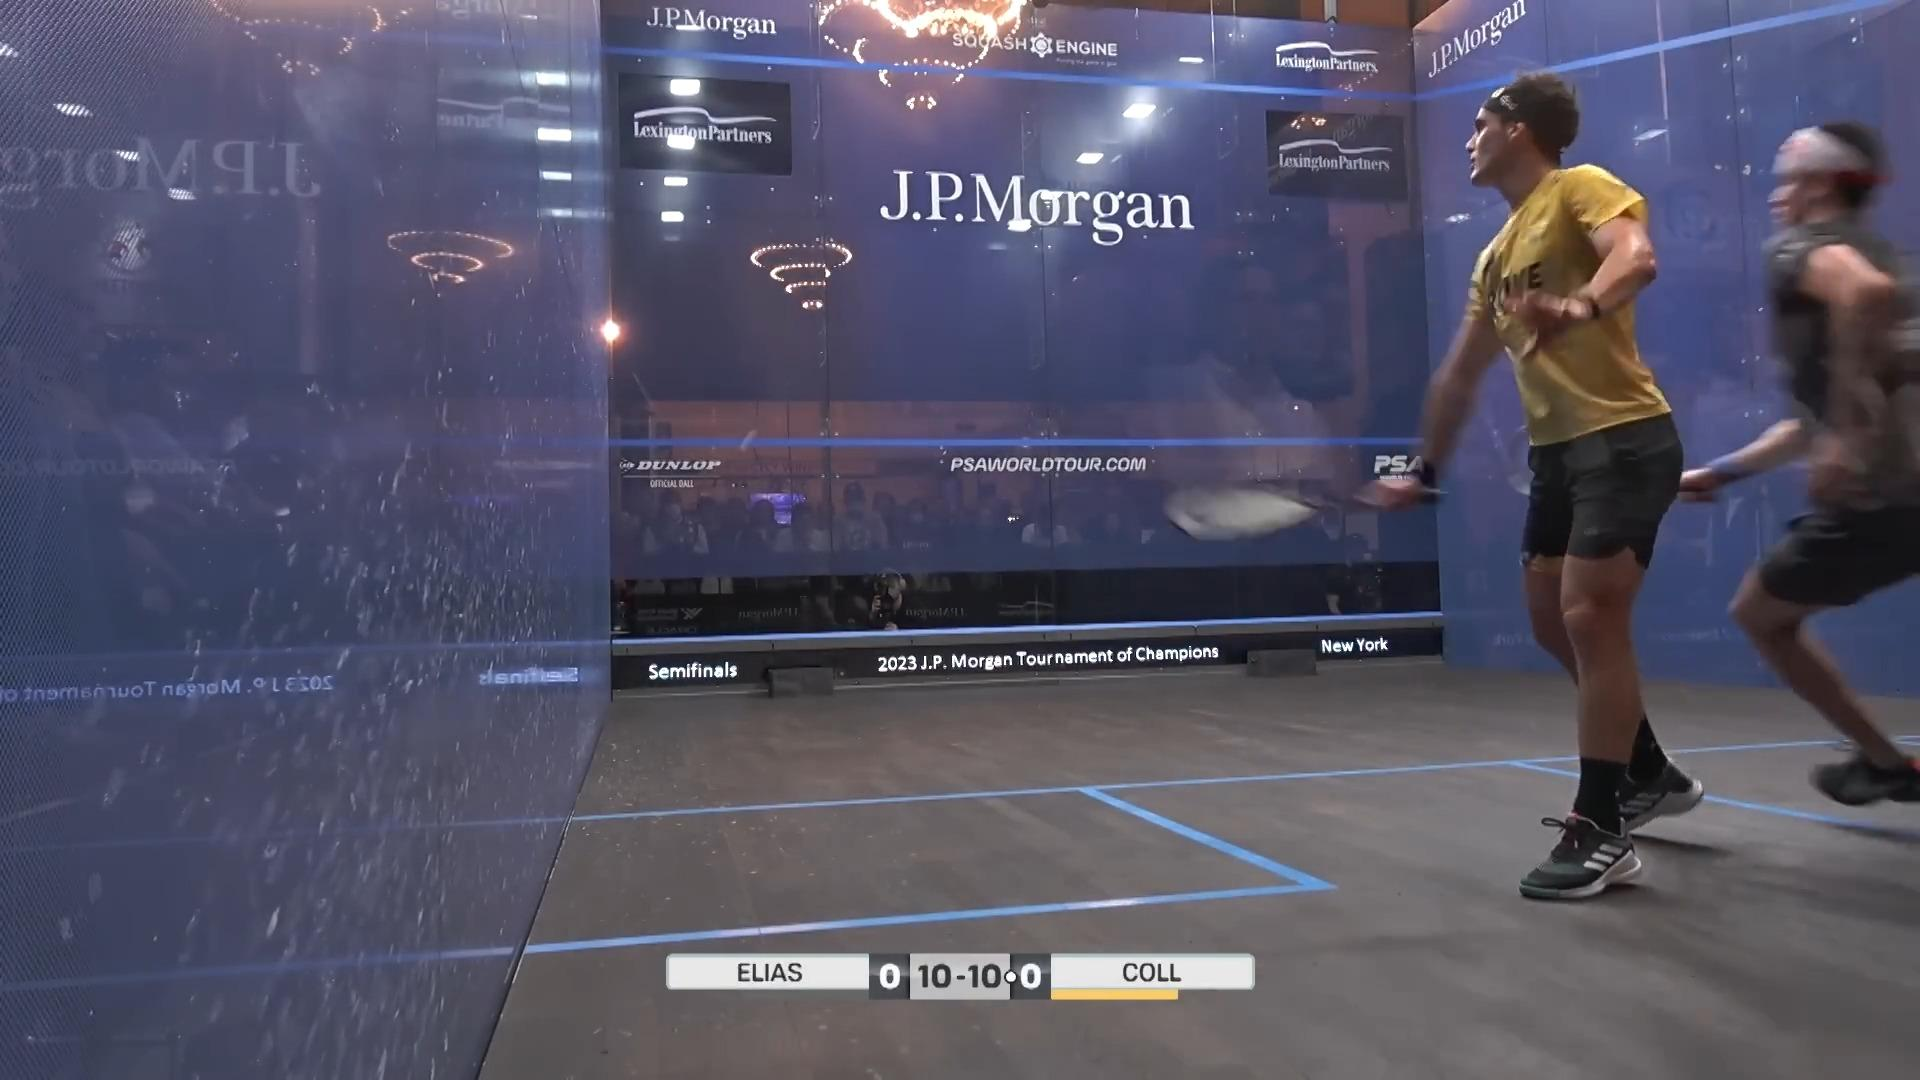Racket: (1155, 473, 1378, 550)
